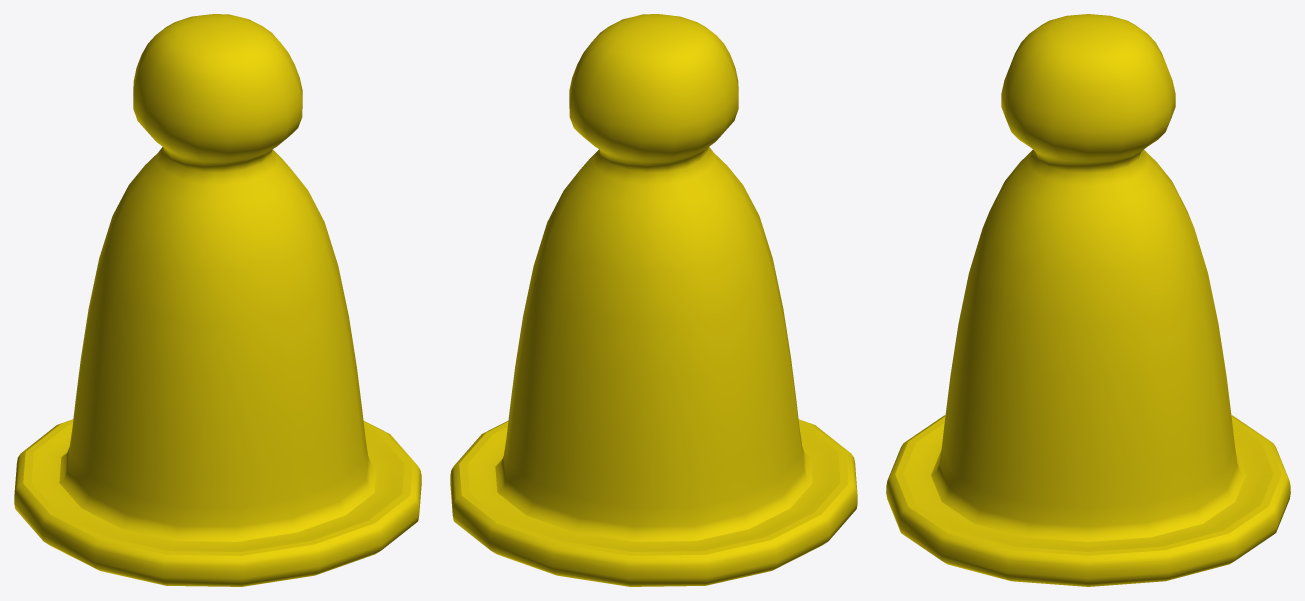
The model's file is Jugador2gcw.glb.
The picture shows the model from 3 angles, left to right: view 1: azimuth 30°, elevation 25°; view 2: azimuth 150°, elevation 25°; view 3: azimuth 270°, elevation 25°; orthographic projection.
Parts seen in each view (by area): view 1: k1.001; view 2: k1.001; view 3: k1.001.
Part boxes in pixels (box(x1,y1,x2,y2)): k1.001: box(14, 14, 421, 586); k1.001: box(450, 14, 857, 586); k1.001: box(886, 14, 1290, 586).
Bounding box in the file's own units: 0.6931 × 0.9252 × 0.6931.
